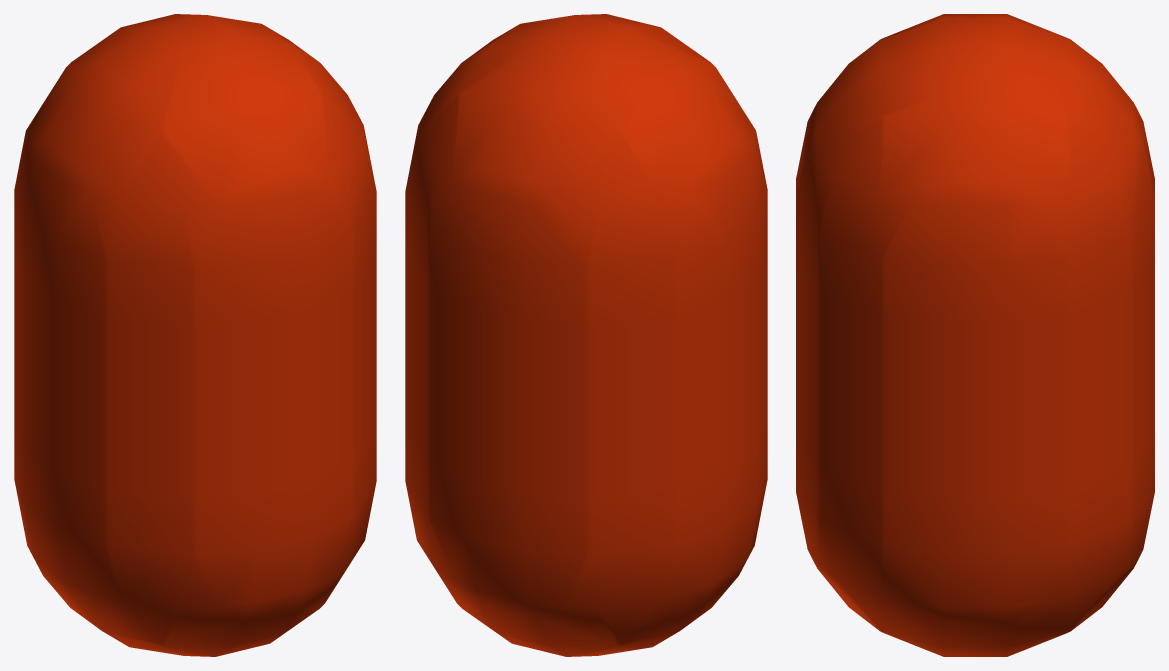
File: tempPlayer.obj
The picture shows the model from 3 angles, left to right: view 1: azimuth 30°, elevation 25°; view 2: azimuth 150°, elevation 25°; view 3: azimuth 270°, elevation 25°; orthographic projection.
Parts seen in each view (by area): view 1: Mball; view 2: Mball; view 3: Mball.
Part boxes in pixels (x1,y1,x2,y2): Mball: (14,14,376,656); Mball: (405,14,767,656); Mball: (796,14,1154,656).
Bounding box in the file's own units: 2.27 × 4.23 × 2.27.
